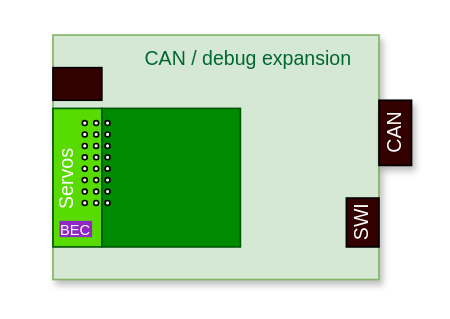
The diagram is 450 pixels wide and 319 high, and some of its shapes have lost their labels. Each missing label, with the centre of its shape:
Flight Controller: the point at 170,177
USB: the point at 76,83
